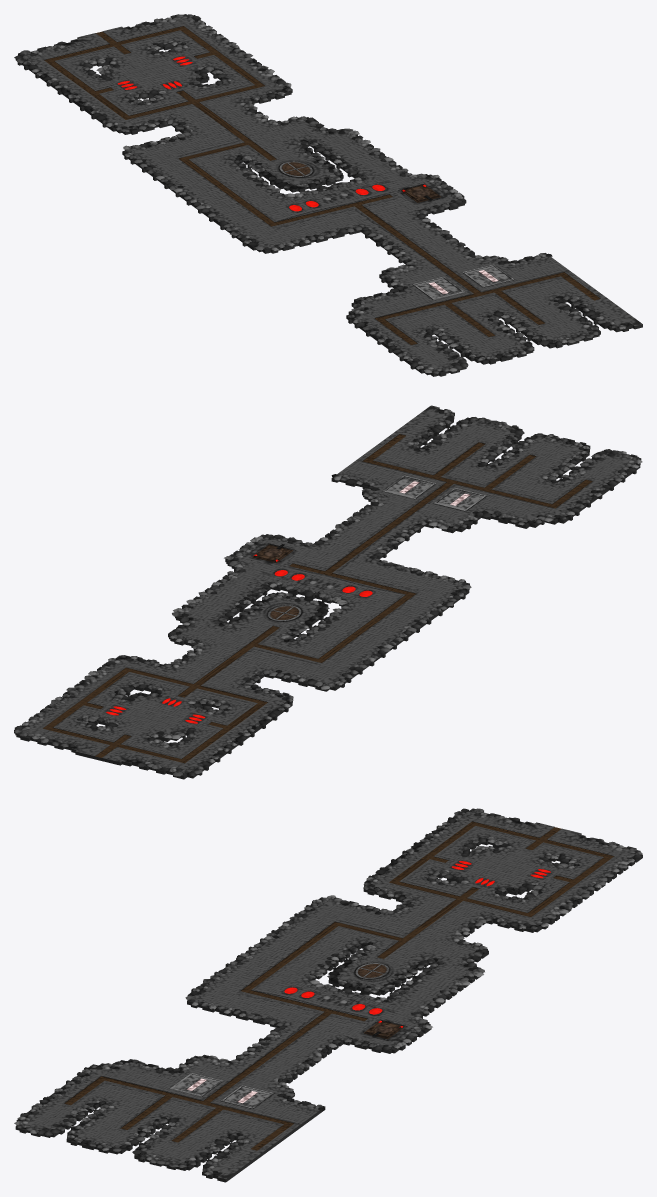
File: l1bld-base-complex.glb
3 renders of one model, top to bottom at view 1: azimuth 30°, elevation 25°; view 2: azimuth 150°, elevation 25°; view 3: azimuth 330°, elevation 25°, orthographic.
Parts seen in each view (by area): view 1: shapesz-l1bld-base-complex-deck, shapesz-l1bld-base-complex-parts; view 2: shapesz-l1bld-base-complex-deck, shapesz-l1bld-base-complex-parts; view 3: shapesz-l1bld-base-complex-deck, shapesz-l1bld-base-complex-parts.
Boxes of the visible parts, bbox=[...] form: shapesz-l1bld-base-complex-deck: bbox=[15, 14, 642, 376]; shapesz-l1bld-base-complex-parts: bbox=[14, 14, 626, 373]; shapesz-l1bld-base-complex-deck: bbox=[14, 405, 641, 779]; shapesz-l1bld-base-complex-parts: bbox=[14, 409, 642, 776]; shapesz-l1bld-base-complex-deck: bbox=[15, 808, 642, 1182]; shapesz-l1bld-base-complex-parts: bbox=[14, 808, 642, 1175].
Size of the model in its own units: 26.56 by 0.69 by 91.
Materials: 18 (18 with a texture image).
